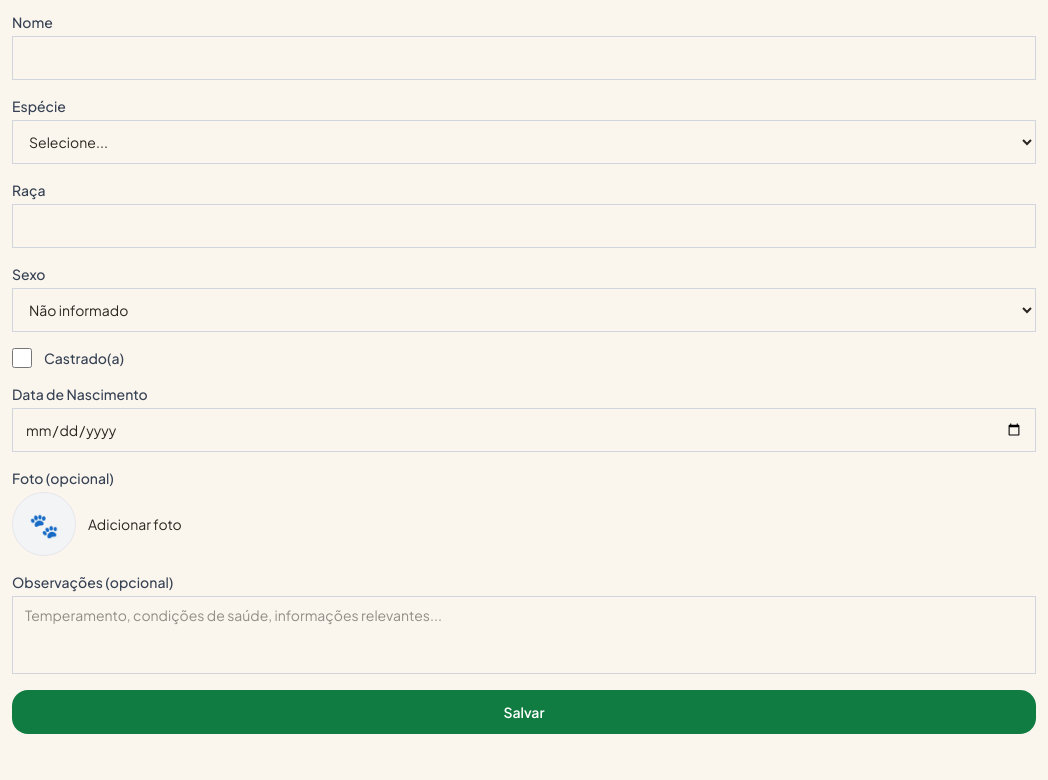
Scenario: PetForm › should show API error inline after failed submit
Type "Rex" into the field labelled "Nome".
click(524, 58); type("Rex")  # box [12,36,1036,80]
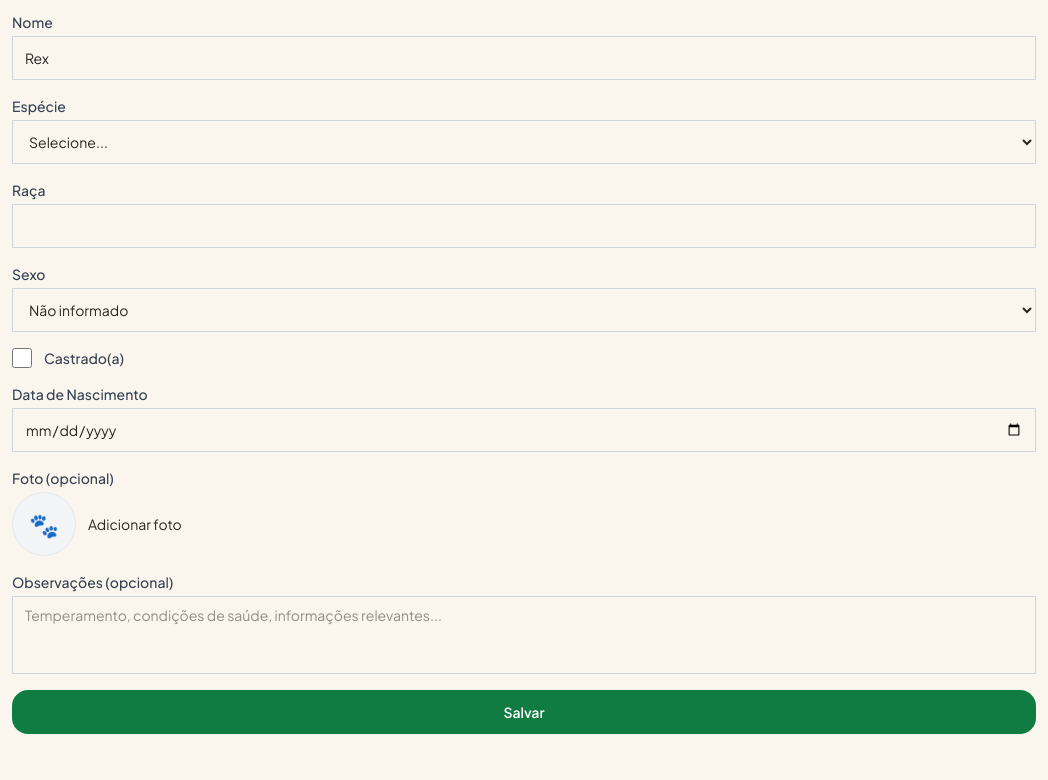
Click the button "Salvar".
click(524, 712)  # box [12,690,1036,734]
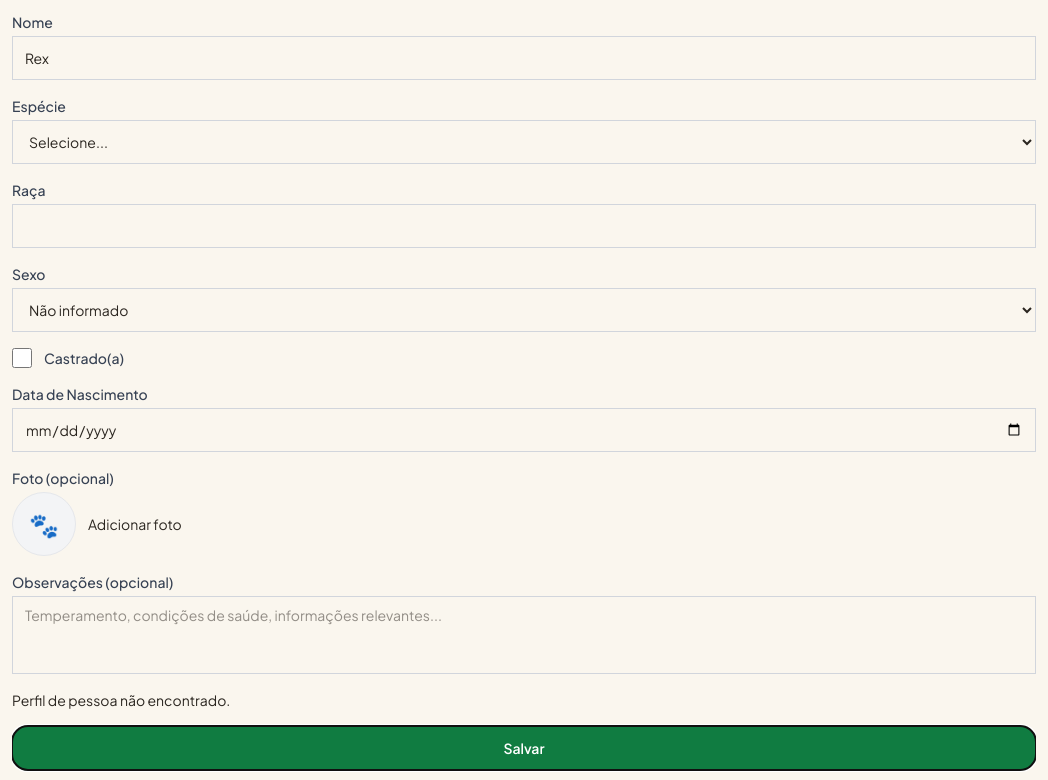
expect the text "Perfil de pessoa não encontrado." is shown: met, box [12,691,230,709]
